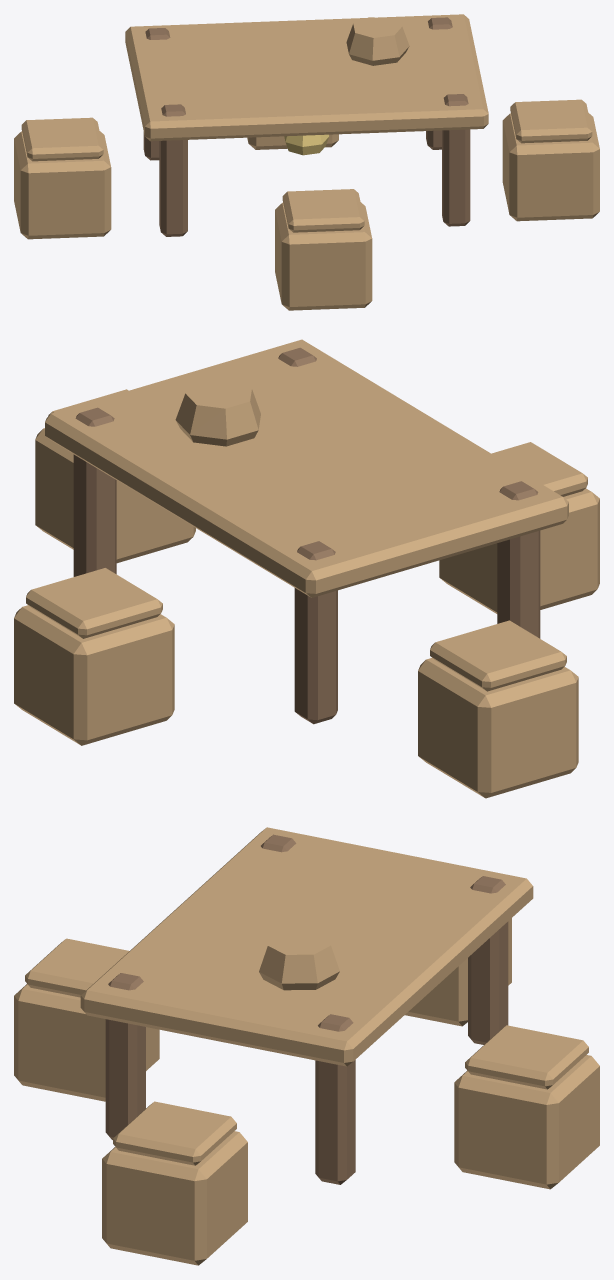
Rendered from town_table_and_stools.glb.
3 renders of one model, top to bottom at view 1: azimuth 30°, elevation 25°; view 2: azimuth 150°, elevation 25°; view 3: azimuth 270°, elevation 25°, orthographic. The views are drawn at different scales.
Parts seen in each view (by area): view 1: world; view 2: world; view 3: world.
Boxes of the visible parts, bbox=[...] form: world: bbox=[14, 14, 599, 310]; world: bbox=[14, 339, 599, 798]; world: bbox=[14, 827, 599, 1265].
Size of the model in its own units: 2 by 0.6758 by 1.65.
